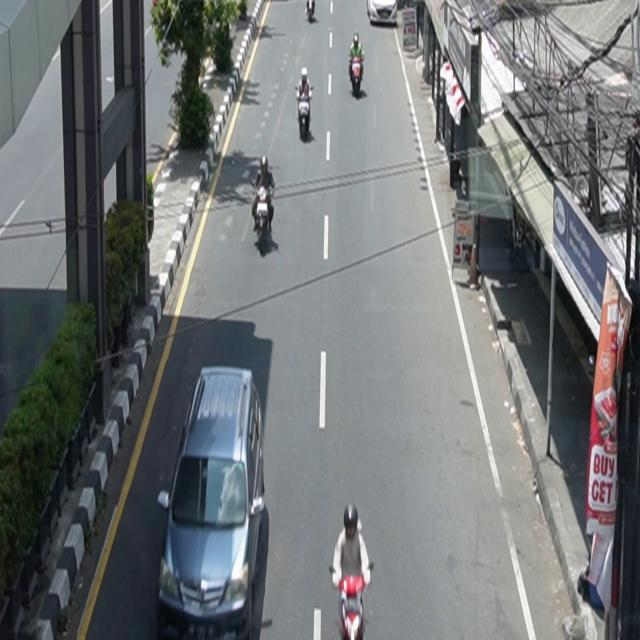car: (157, 366, 270, 640)
